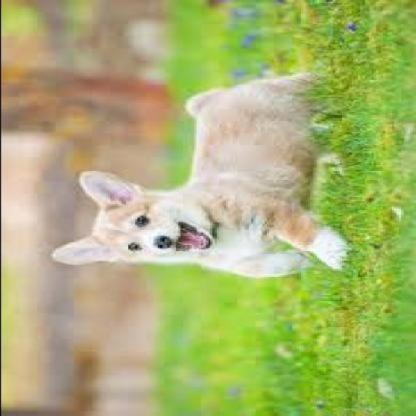dog: (51, 71, 351, 278)
